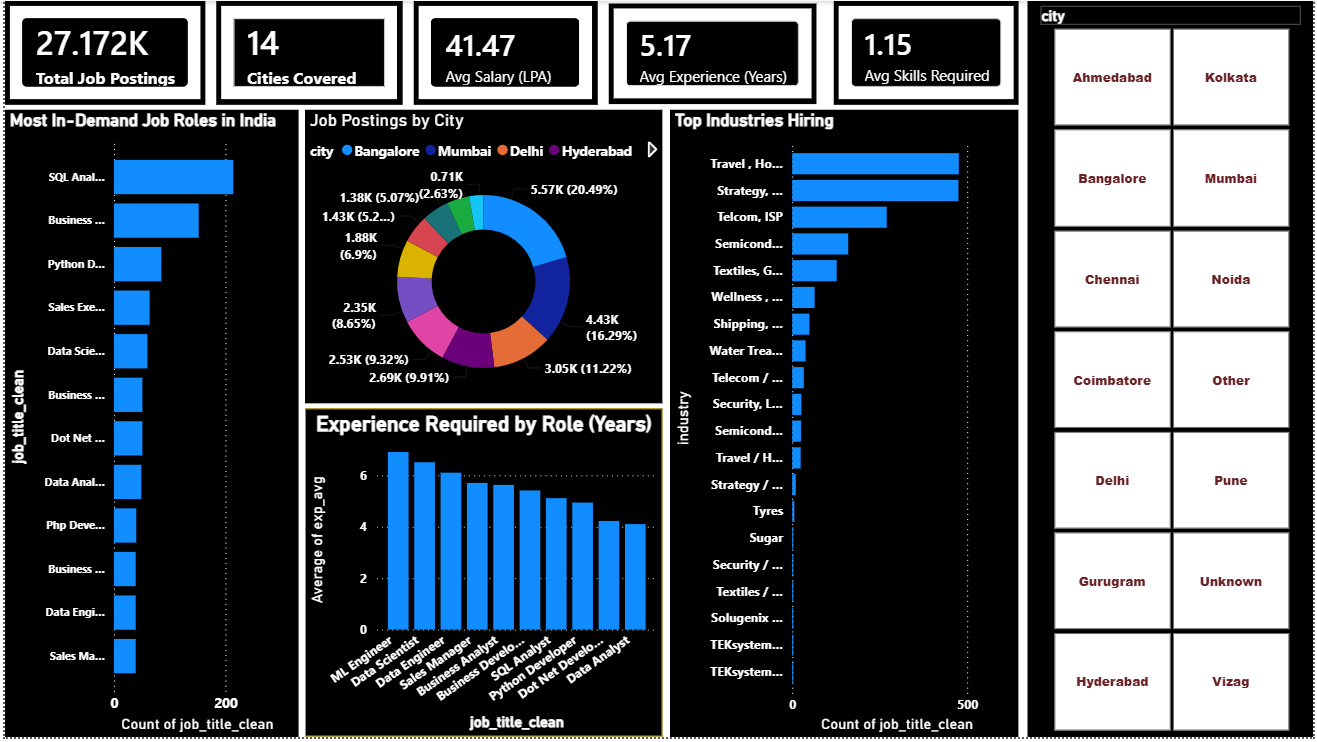

Layout of this report page (visuals, bound fields, positions):
{"tool":"powerbi","page":{"name":"Page 1","canvas":[1280,720],"ordinal":0},"visuals":[{"type":"clusteredBarChart","title":"Most In-Demand Job Roles in India","fields":{"Category":["clean_jobs.job_title_clean"],"Y":["CountNonNull(clean_jobs.job_title_clean)"]},"box":[0,106.4,287.4,613.9],"z":0},{"type":"donutChart","title":"Job Postings by City","fields":{"Category":["clean_jobs.city"],"Y":["CountNonNull(clean_jobs.city)"]},"box":[293.5,106.4,349.7,287.4],"z":1000},{"type":"slicer","fields":{"Values":["clean_jobs.city"]},"box":[1000.3,0,280,720.2],"z":2000},{"type":"cardVisual","title":"Total Job Postings","fields":{"Data":["CountNonNull(clean_jobs.job_title_clean)"]},"box":[0,0,196.2,101.5],"z":3000},{"type":"cardVisual","fields":{"Data":["Count(clean_jobs.city)"]},"box":[207.2,0,182.5,101.5],"z":4000},{"type":"columnChart","title":"Experience Required by Role (Years)","fields":{"Category":["clean_jobs.job_title_clean"],"Y":["Avg(clean_jobs.exp_avg)"]},"box":[293.7,398.9,349.9,321.1],"z":5000},{"type":"barChart","title":"Top Industries Hiring","fields":{"Category":["clean_jobs.industry"],"Y":["CountNonNull(clean_jobs.job_title_clean)"]},"box":[650.5,106.4,341.2,613.9],"z":6000},{"type":"cardVisual","fields":{"Data":["Avg(clean_jobs.salary_lpa)"]},"box":[399.3,0,179.8,101.5],"z":7000},{"type":"cardVisual","fields":{"Data":["Avg(clean_jobs.exp_avg)"]},"box":[590.1,2.7,203.1,98.8],"z":8000},{"type":"cardVisual","fields":{"Data":["Avg(clean_jobs.skill_count)"]},"box":[811,0,181.1,101.5],"z":9000}]}

Visuals, with their boxes in screenshot pixels (x1, y1, x2, y2), scaled from the page's 1280x720 canvas onto the 1317x742 screenshot:
"Most In-Demand Job Roles in India" clusteredBarChart: (0,110,296,741)
"Job Postings by City" donutChart: (302,110,662,406)
slicer - clean_jobs.city: (1029,0,1316,741)
"Total Job Postings" cardVisual: (0,0,202,105)
cardVisual - Count(clean_jobs.city): (213,0,401,105)
"Experience Required by Role (Years)" columnChart: (302,411,662,741)
"Top Industries Hiring" barChart: (669,110,1020,741)
cardVisual - Avg(clean_jobs.salary_lpa): (411,0,596,105)
cardVisual - Avg(clean_jobs.exp_avg): (607,3,816,105)
cardVisual - Avg(clean_jobs.skill_count): (834,0,1021,105)
